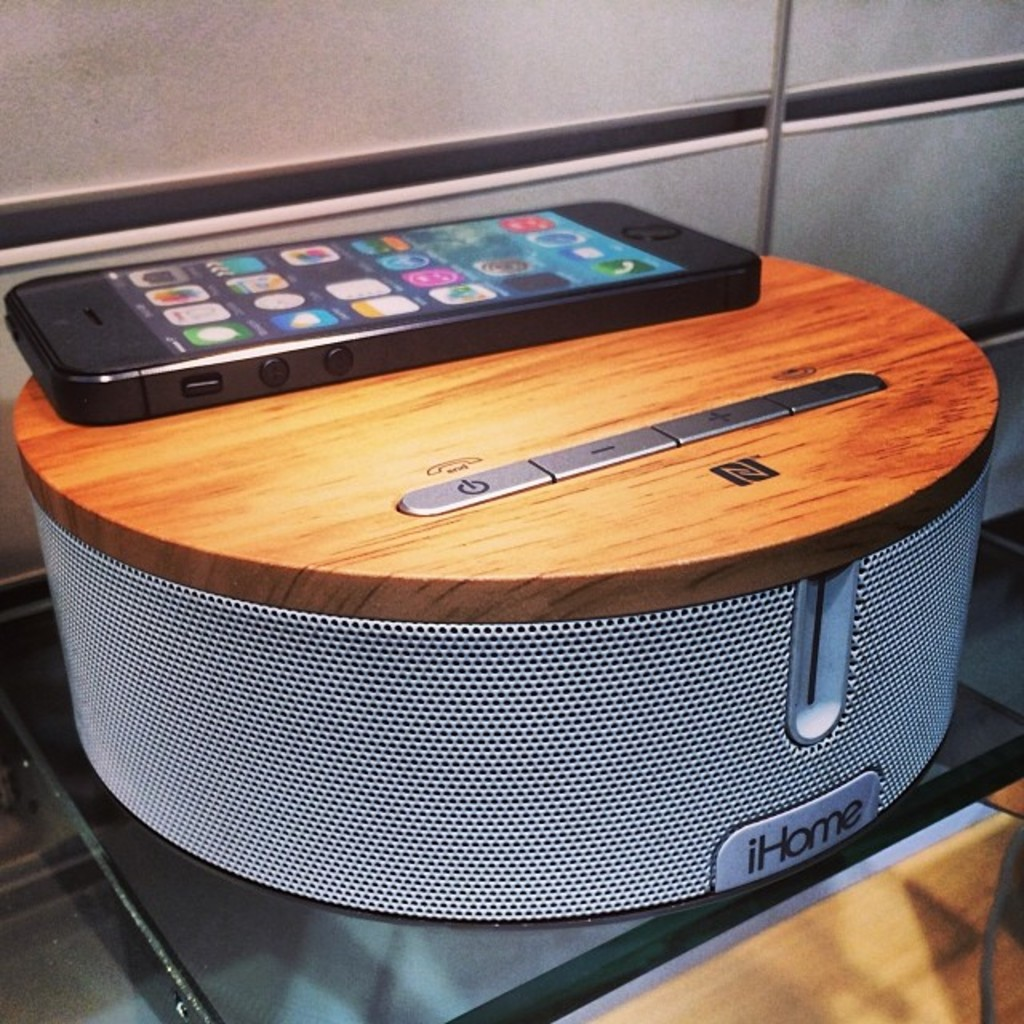Mobile-phone: (0, 193, 764, 421)
